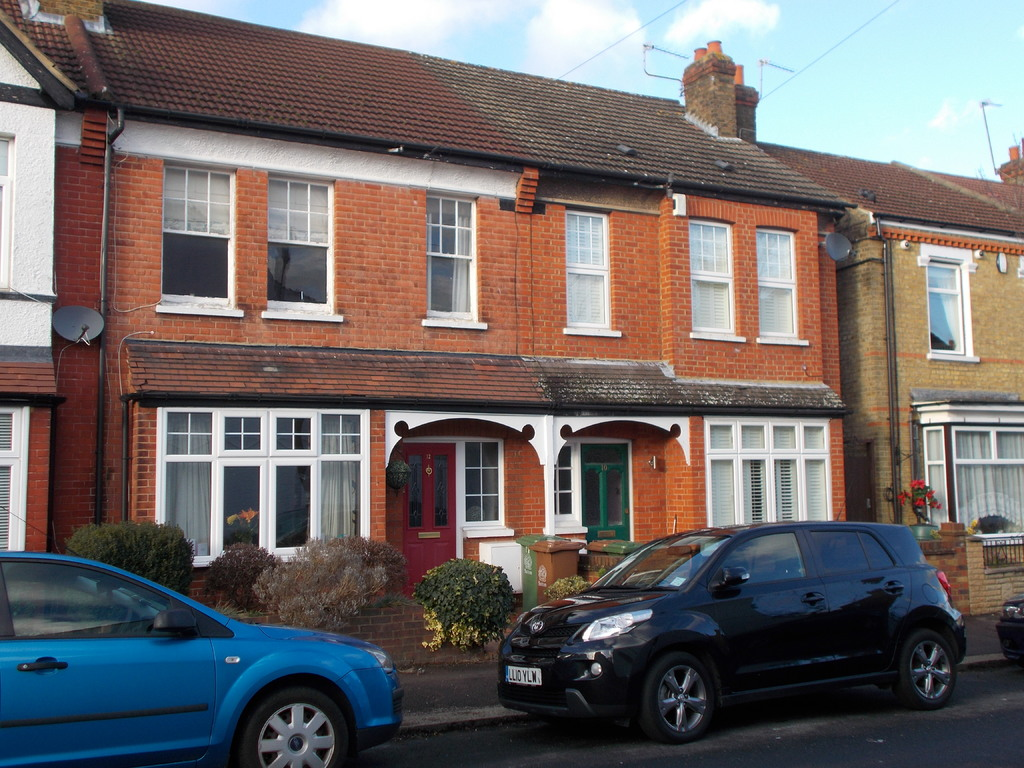Car: (499, 518, 967, 745), (0, 543, 399, 767), (1000, 604, 1023, 654)
